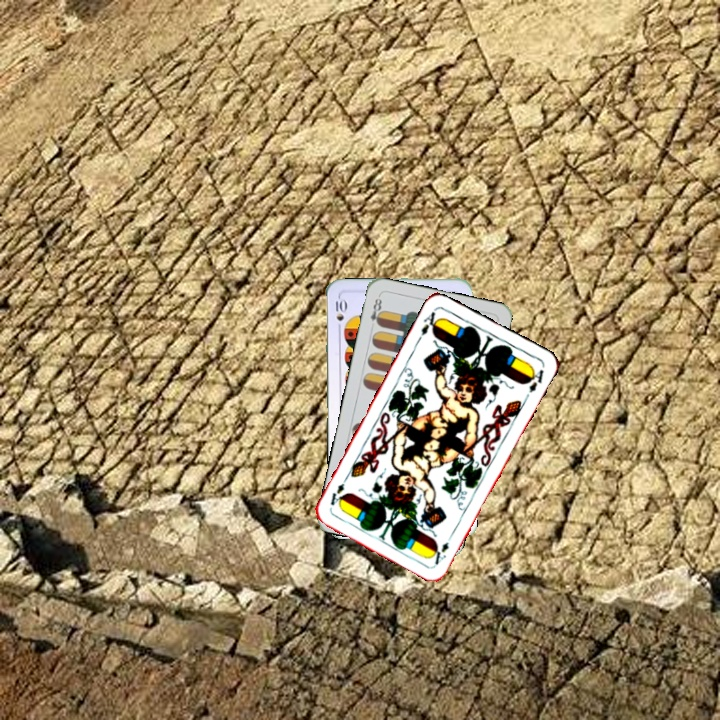E8: (366, 292, 385, 332)
EA: (429, 530, 456, 567), (417, 306, 442, 338)
S10: (332, 295, 348, 334)
